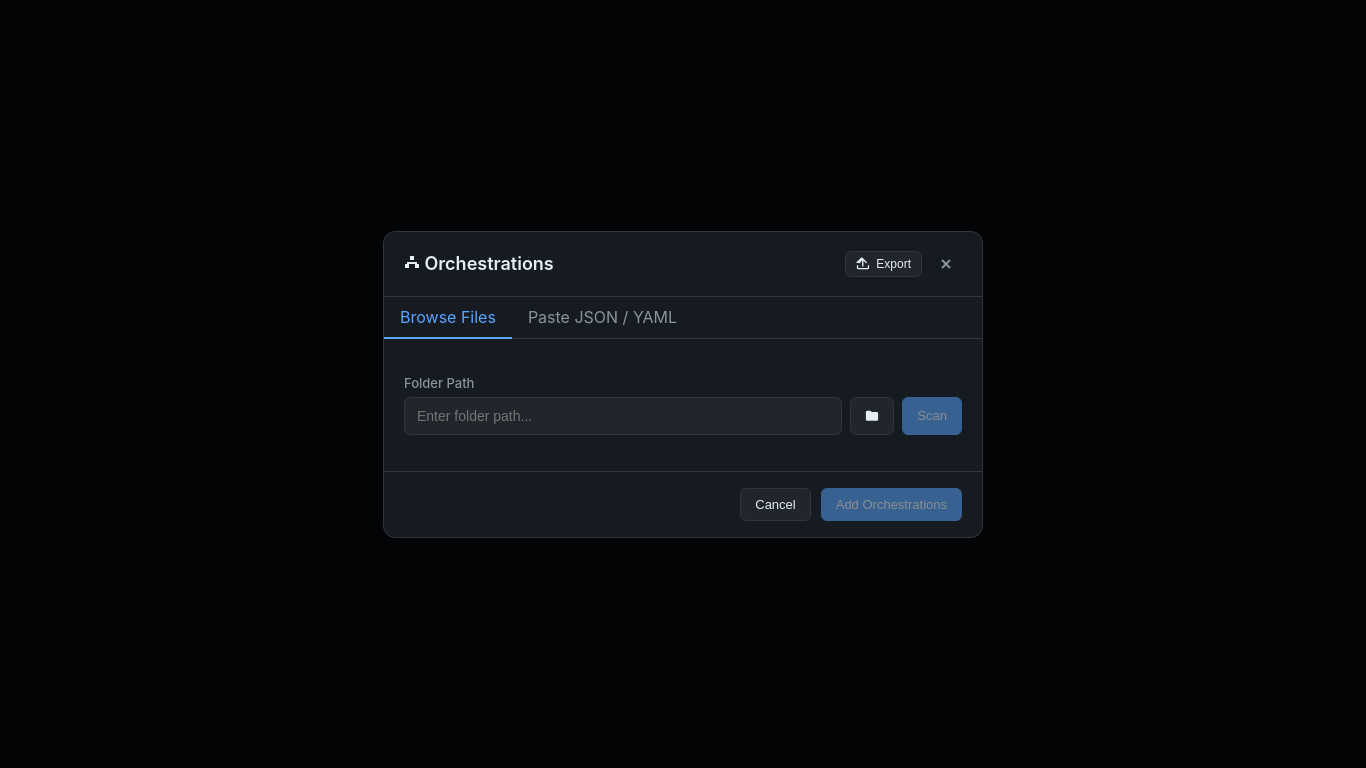
Test: workflow import › discards a late preview and previous selection when choosing another folder
Type "/work" into the field labelled "Folder Path" at (623, 416), box 404,396 -> 842,434
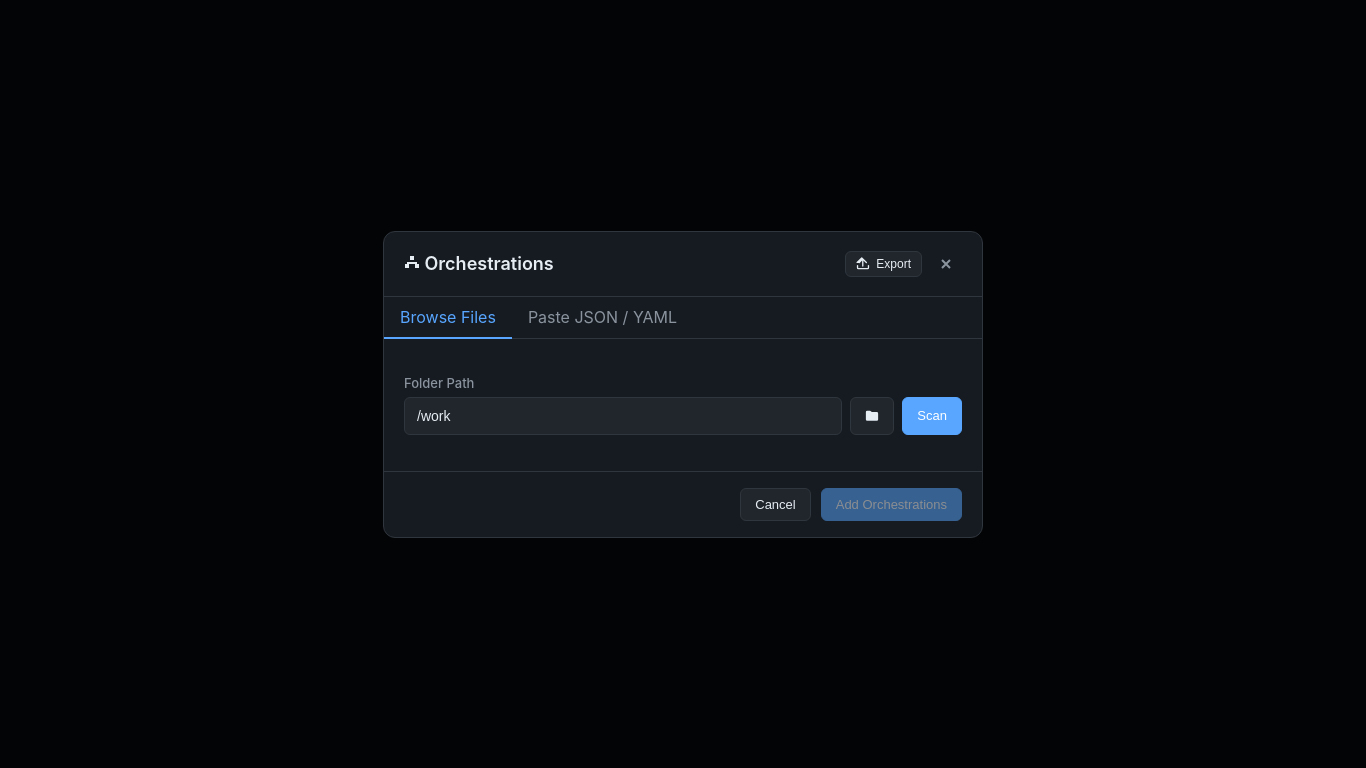
Click the button "Scan" at (932, 416), box 902,396 -> 962,434
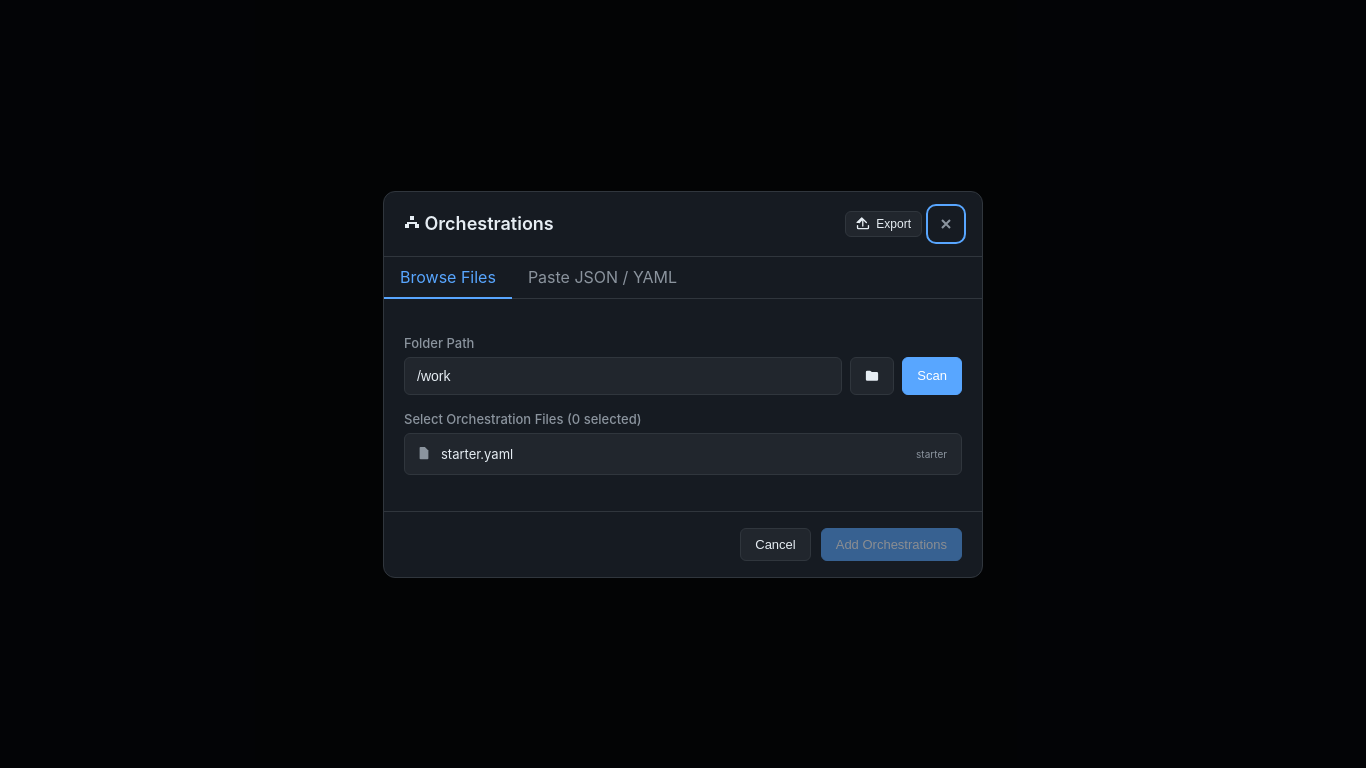
Click the checkbox labelled "starter.yaml starter" at (477, 454), box 417,446 -> 947,462
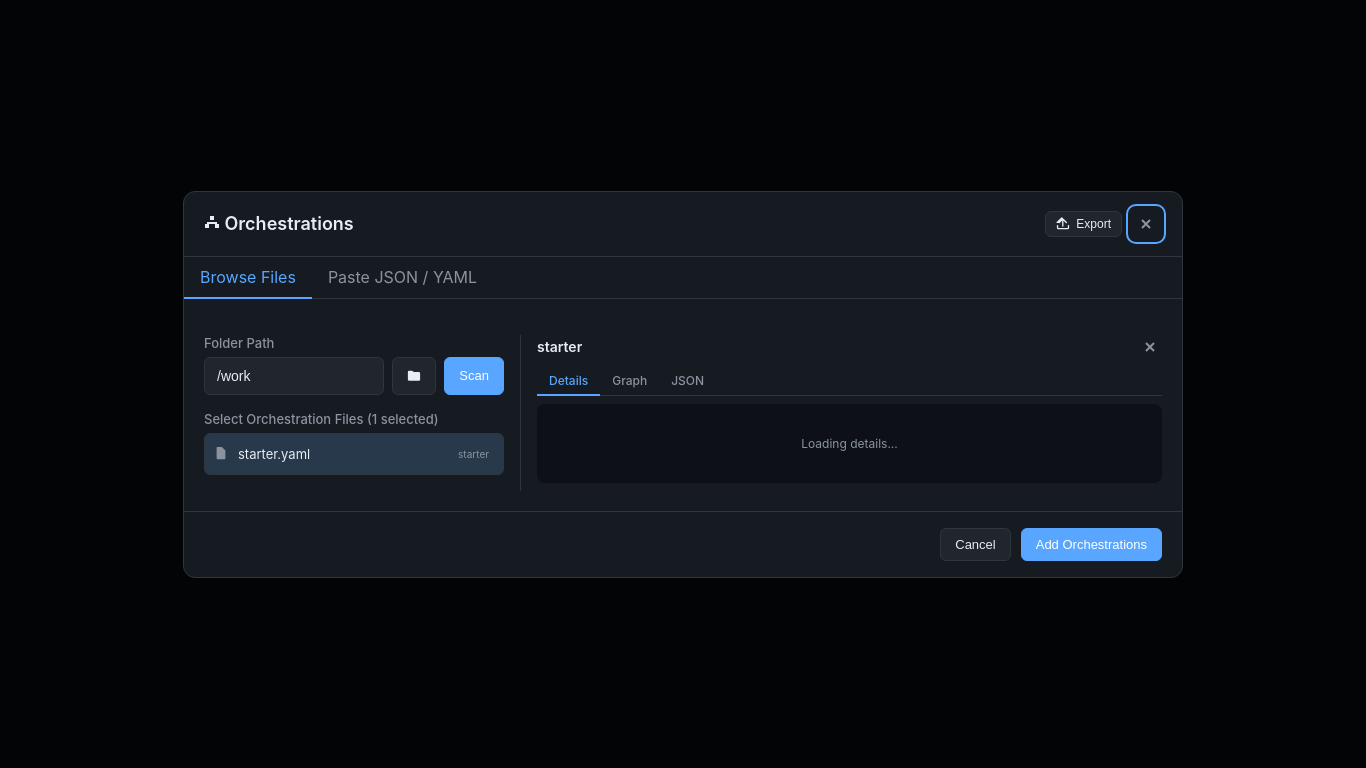
Click the button named "Choose a folder" at (414, 376), box 392,356 -> 436,394
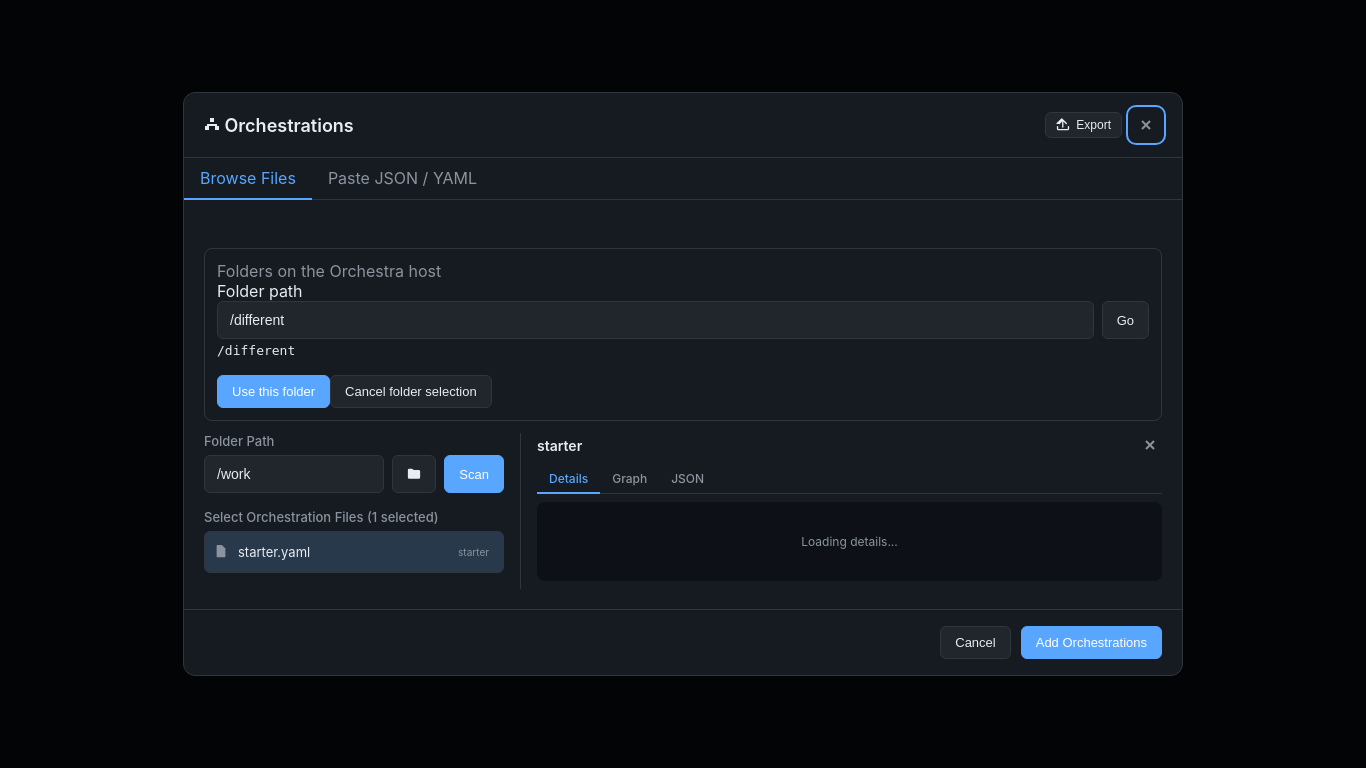
Click the button "Use this folder" at (274, 392), box 217,375 -> 330,408
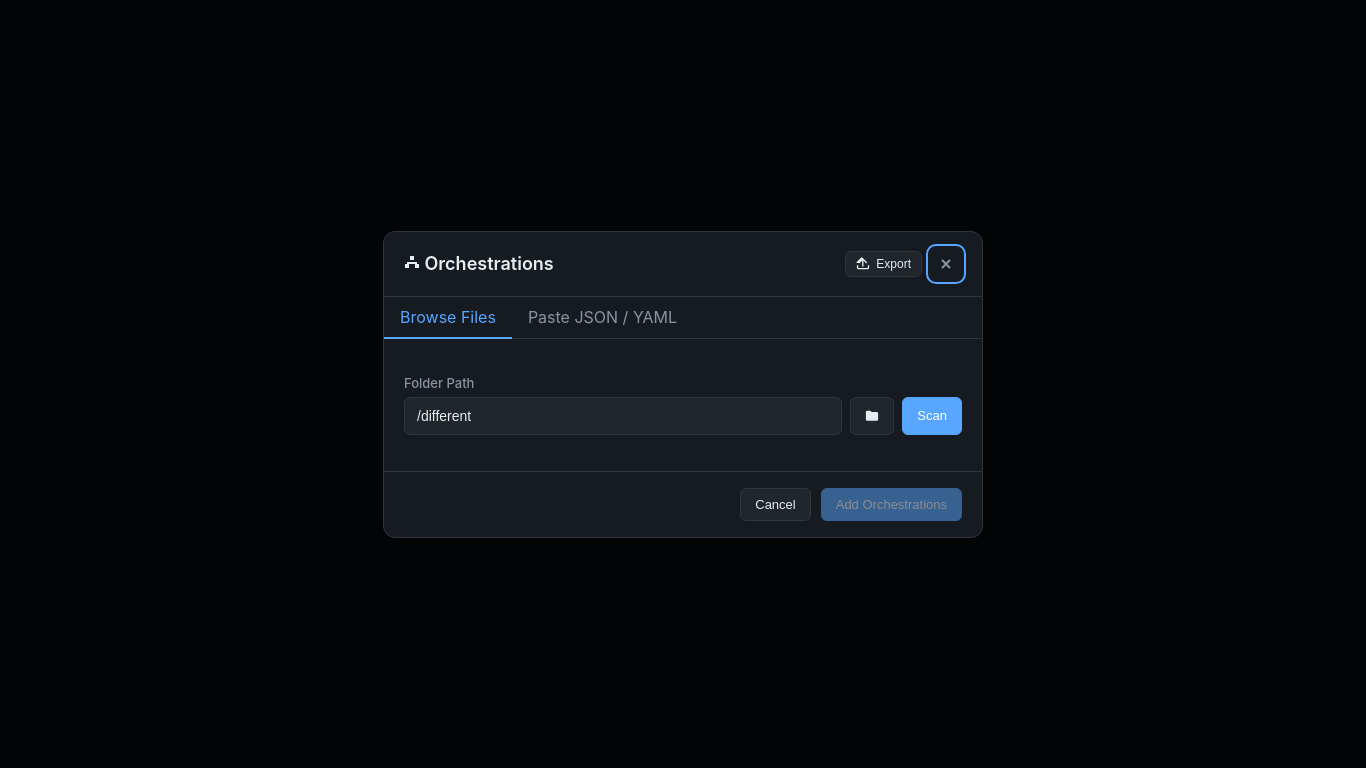
Expected: the field labelled "Folder Path" holds "/different", 404,396 -> 842,434
Expected: the button "Add Orchestrations" is disabled, 821,488 -> 962,520
